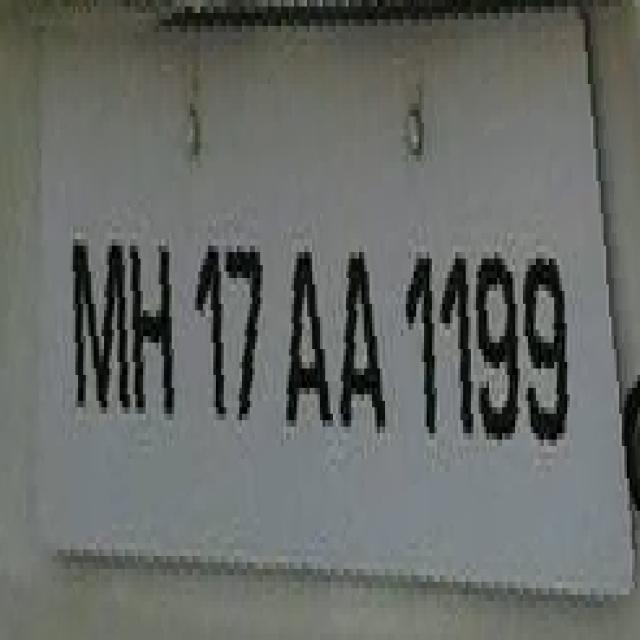license_plate: (32, 52, 638, 550)
